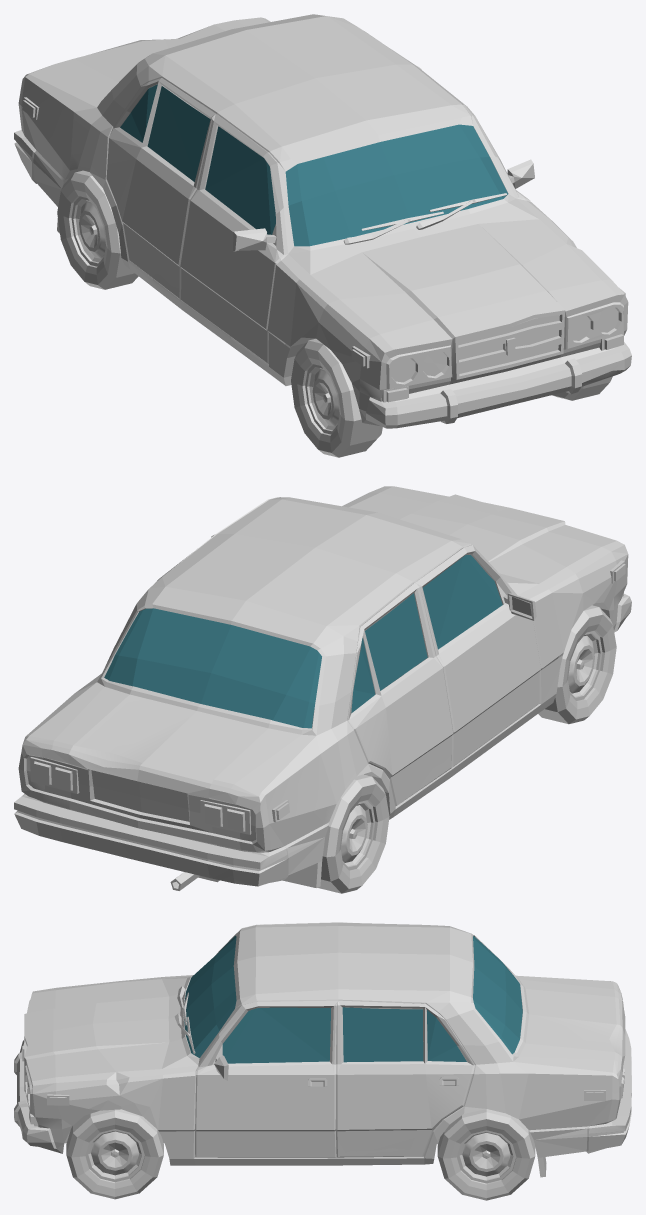
The picture shows the model from 3 angles, top to bottom: view 1: azimuth 30°, elevation 25°; view 2: azimuth 150°, elevation 25°; view 3: azimuth 270°, elevation 25°; orthographic projection. The views are drawn at different scales.
Visible parts, largest first — view 1: SM_Veh_Car_01, SM_Veh_Car_01_Glass, SM_Veh_Car_01_Wheel_fr, SM_Veh_Car_01_Wheel_rr; view 2: SM_Veh_Car_01, SM_Veh_Car_01_Glass, SM_Veh_Car_01_Wheel_rr, SM_Veh_Car_01_Wheel_fr; view 3: SM_Veh_Car_01, SM_Veh_Car_01_Glass, SM_Veh_Car_01_Wheel_rl, SM_Veh_Car_01_Wheel_fl.
Part boxes in pixels (x1,y1,x2,y2): SM_Veh_Car_01: (14,14,631,428); SM_Veh_Car_01_Glass: (120,84,507,246); SM_Veh_Car_01_Wheel_fr: (291,338,382,457); SM_Veh_Car_01_Wheel_rr: (57,170,138,289); SM_Veh_Car_01: (14,486,631,890); SM_Veh_Car_01_Glass: (104,555,502,728); SM_Veh_Car_01_Wheel_rr: (317,774,389,893); SM_Veh_Car_01_Wheel_fr: (538,605,616,724); SM_Veh_Car_01: (14,922,631,1177); SM_Veh_Car_01_Glass: (183,935,522,1063); SM_Veh_Car_01_Wheel_rl: (437,1109,535,1200); SM_Veh_Car_01_Wheel_fl: (66,1109,163,1199).
Bounding box in the file's own units: 2.06 × 1.6 × 4.58.
